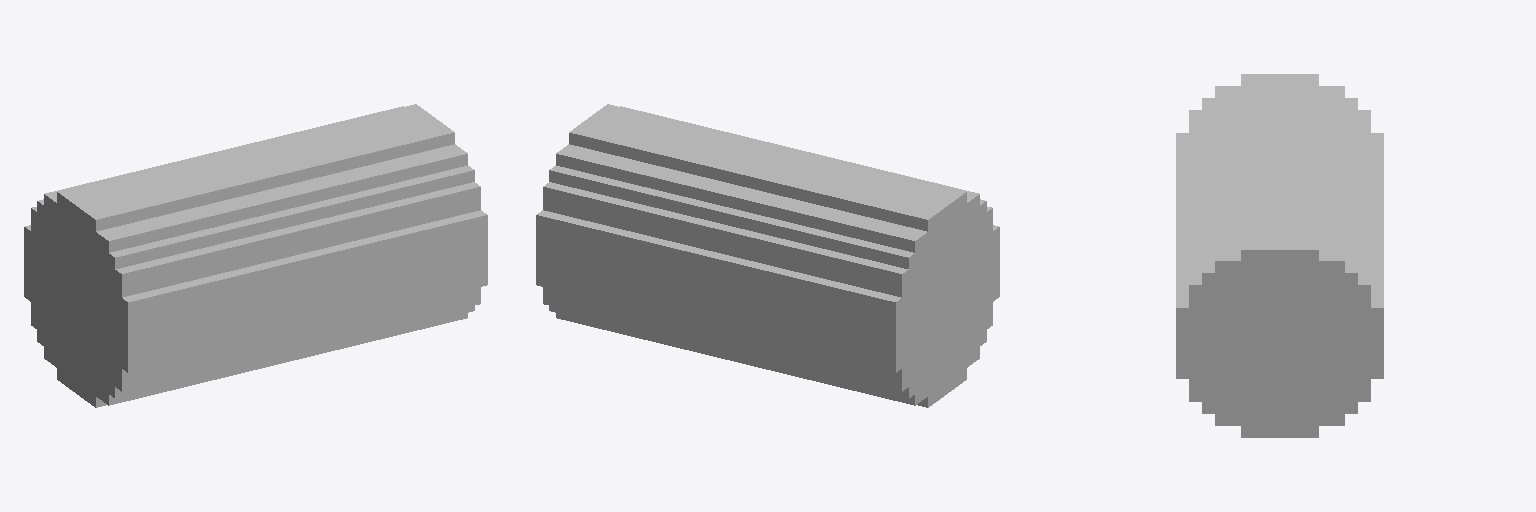
The model's file is log_1.obj.
3 views of the same model, side by side, from view 1: azimuth 30°, elevation 25°; view 2: azimuth 150°, elevation 25°; view 3: azimuth 270°, elevation 25° (orthographic).
Parts seen in each view (by area): view 1: object 1; view 2: object 1; view 3: object 1.
Part boxes in pixels (left/top/right/bottom): object 1: left=24, top=104, right=487, bottom=407; object 1: left=536, top=104, right=999, bottom=407; object 1: left=1176, top=74, right=1383, bottom=437.
Bounding box in the file's own units: 3.2 × 1.6 × 1.6.